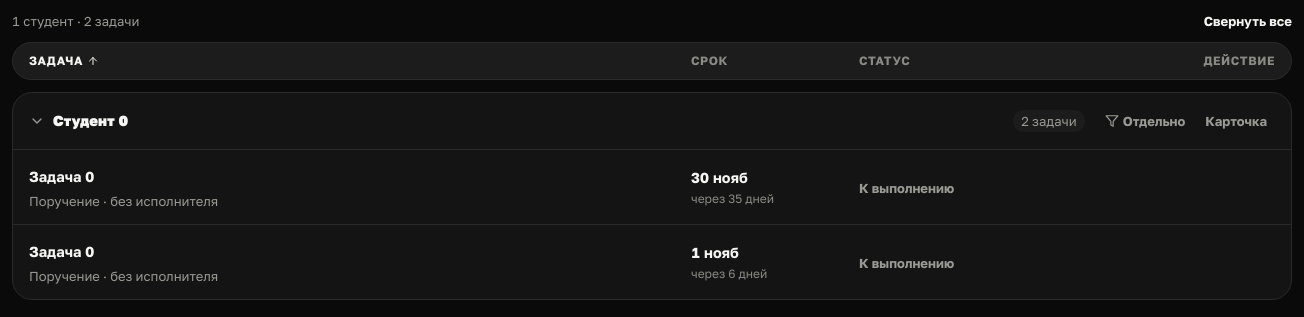
it: ближайший срок не зависит от сортировки задач
This screenshot has width=1304, height=317.
Click the button with aria-label "Свернуть: Студент 0". click: (91,120)
box: left=29, top=110, right=1085, bottom=132
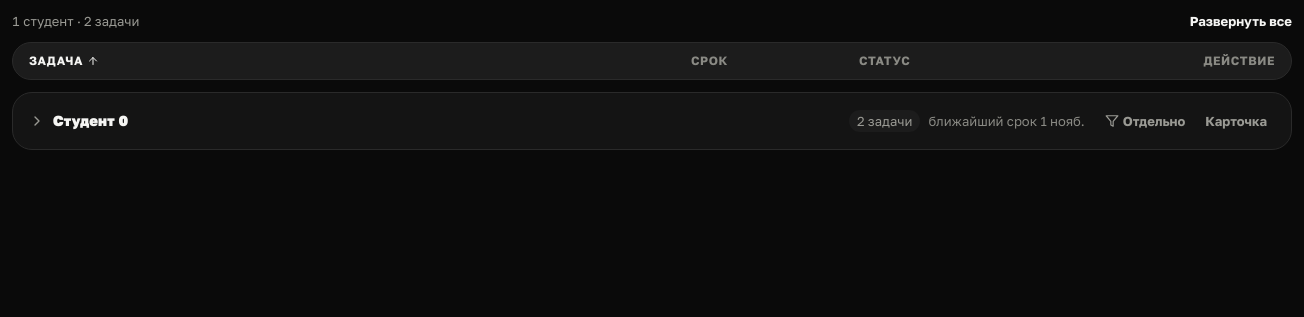
Expected: the text "ближайший срок 1 нояб." is shown, left=928, top=112, right=1085, bottom=130
